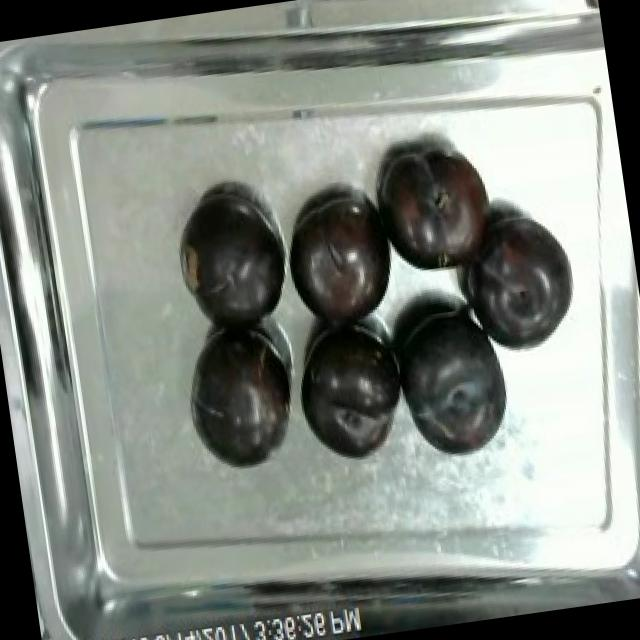Fruit: (381, 289, 526, 471), (361, 132, 514, 294), (283, 312, 417, 478), (273, 182, 412, 342), (177, 320, 310, 482), (459, 200, 590, 360), (170, 185, 300, 338)
